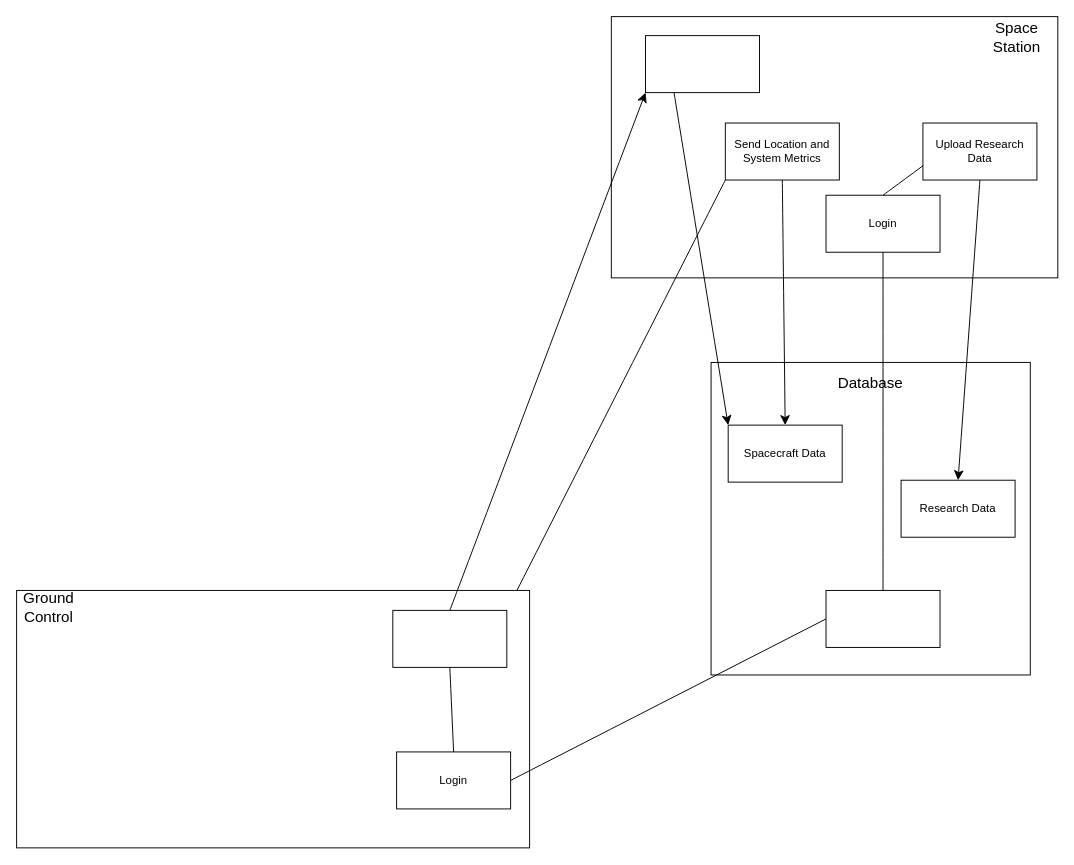
Some shapes in this 1074 by 865 pixel diagram are drawn without their labels. The centre of each missing label's shape, as x and y in pixels:
Credentials: the point at 882,618
Make Course Changes: the point at 702,64
Monitor Spacecraft Data: the point at 449,638
